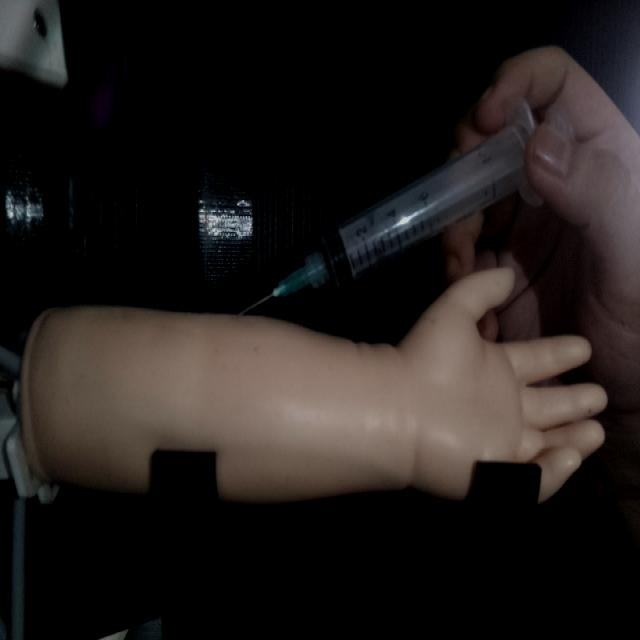Above 30 degrees: (234, 95, 549, 317)
